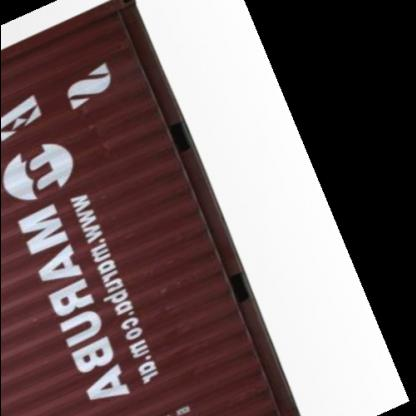Damage: (148, 276, 178, 354), (73, 104, 113, 160)
